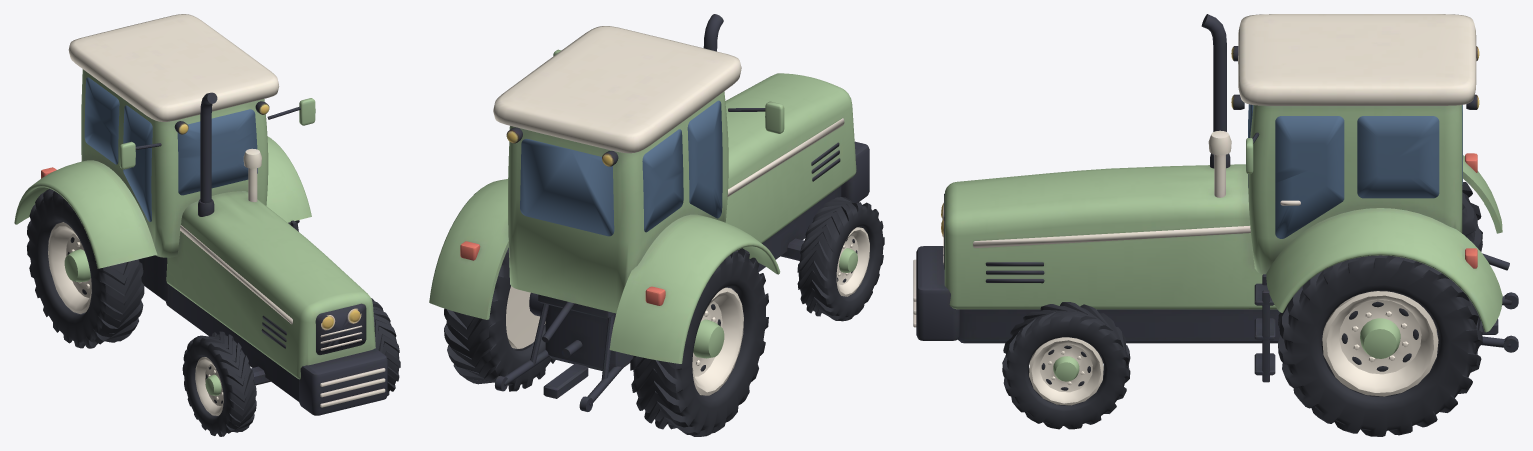
File: tractor.glb
3 views of the same model, side by side, from view 1: azimuth 30°, elevation 25°; view 2: azimuth 150°, elevation 25°; view 3: azimuth 270°, elevation 25° (orthographic). The views are drawn at different scales.
Parts seen in each view (by area): view 1: tractor_body, tractor_wheel_rr, tractor_windows, tractor_wheel_fr, tractor_wheel_fl; view 2: tractor_body, tractor_wheel_rr, tractor_windows, tractor_wheel_fr, tractor_wheel_rl; view 3: tractor_body, tractor_wheel_rl, tractor_windows, tractor_wheel_fl, tractor_wheel_rr.
Boxes of the visible parts, x1=… form: tractor_body: x1=14, y1=14, x2=387, y2=415; tractor_wheel_rr: x1=27, y1=189, x2=144, y2=348; tractor_windows: x1=84, y1=77, x2=257, y2=221; tractor_wheel_fr: x1=182, y1=331, x2=256, y2=436; tractor_wheel_fl: x1=371, y1=298, x2=400, y2=395; tractor_body: x1=429, y1=14, x2=869, y2=411; tractor_wheel_rr: x1=630, y1=248, x2=768, y2=436; tractor_windows: x1=520, y1=100, x2=722, y2=236; tractor_wheel_fr: x1=797, y1=197, x2=884, y2=321; tractor_wheel_rl: x1=444, y1=247, x2=555, y2=391; tractor_body: x1=913, y1=14, x2=1518, y2=382; tractor_wheel_rl: x1=1278, y1=255, x2=1482, y2=436; tractor_windows: x1=1248, y1=104, x2=1462, y2=238; tractor_wheel_fl: x1=1002, y1=302, x2=1130, y2=429; tractor_wheel_rr: x1=1462, y1=182, x2=1482, y2=251.
Size of the model in its own units: 2.38 by 3.03 by 4.72.
5 materials, 1 textured.
